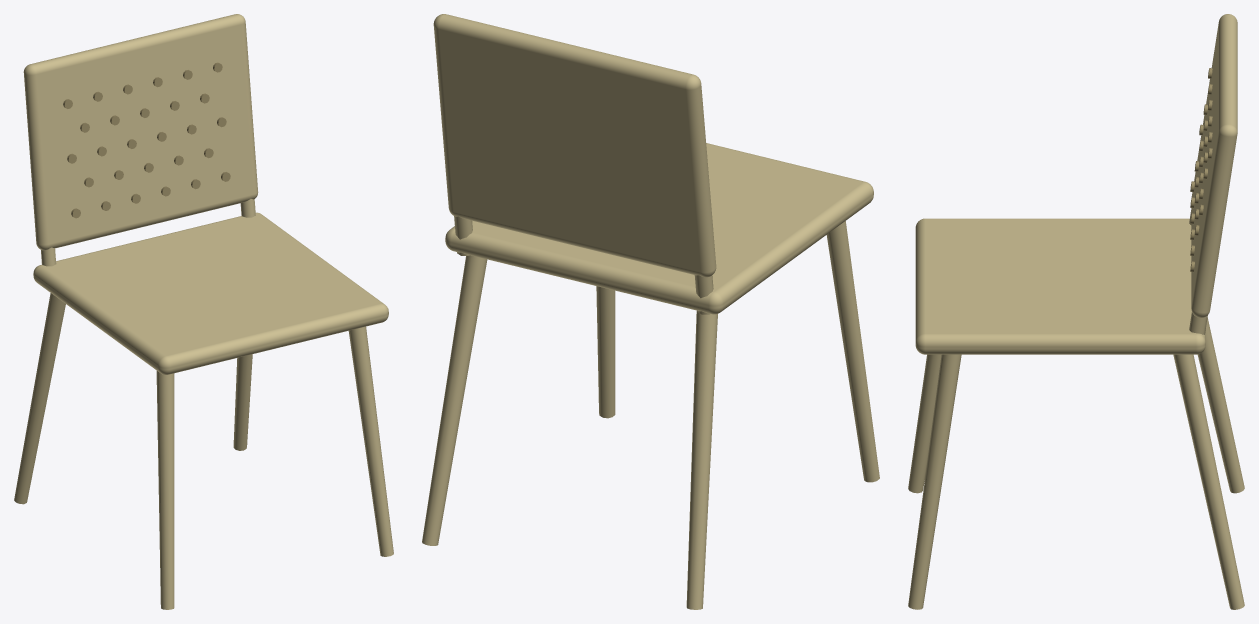
The model's file is stul-klassik.glb.
3 renders of one model, left to right at view 1: azimuth 30°, elevation 25°; view 2: azimuth 150°, elevation 25°; view 3: azimuth 270°, elevation 25°, orthographic. The views are drawn at different scales.
Visible parts, largest first — view 1: furniture; view 2: furniture; view 3: furniture.
Boxes of the visible parts, box(x1,y1,x2,y2) form: furniture: box(14, 14, 393, 609); furniture: box(422, 14, 879, 609); furniture: box(908, 14, 1244, 609).
Bounding box in the file's own units: 0.4628 × 0.8392 × 0.5337.
